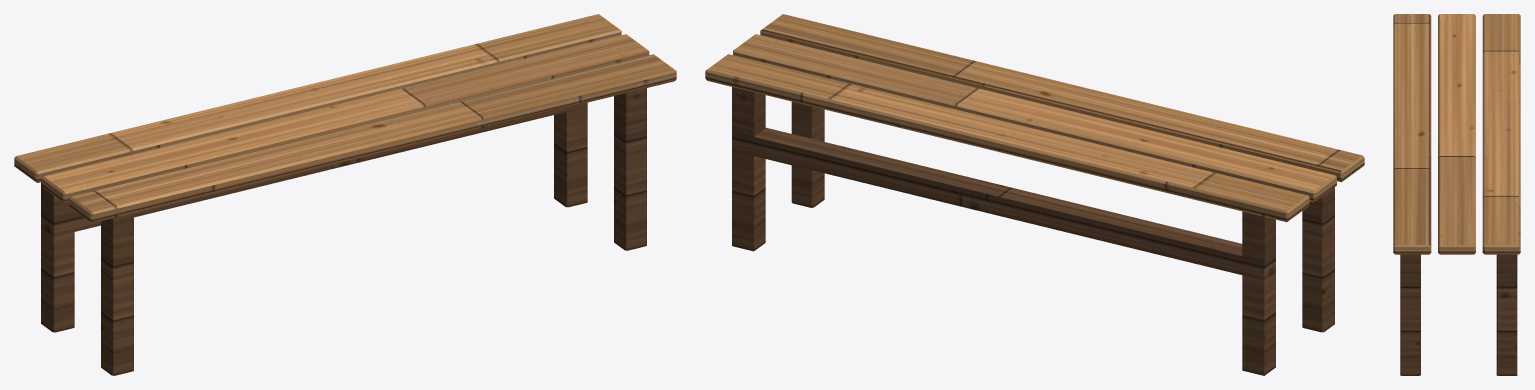
The model's file is bench_in.glb.
The picture shows the model from 3 angles, left to right: view 1: azimuth 30°, elevation 25°; view 2: azimuth 150°, elevation 25°; view 3: azimuth 270°, elevation 25°; orthographic projection. The views are drawn at different scales.
Visible parts, largest first — view 1: bench_in_wood, bench_in_dkwood; view 2: bench_in_wood, bench_in_dkwood; view 3: bench_in_wood, bench_in_dkwood.
Part boxes in pixels (box(x1,y1,x2,y2)): bench_in_wood: box(14, 14, 676, 223); bench_in_dkwood: box(41, 88, 646, 375); bench_in_wood: box(705, 14, 1364, 222); bench_in_dkwood: box(732, 87, 1334, 375); bench_in_wood: box(1393, 14, 1520, 254); bench_in_dkwood: box(1400, 254, 1517, 375).
Size of the model in its own units: 1.6 by 0.45 by 0.37.
2 materials, 2 textured.
